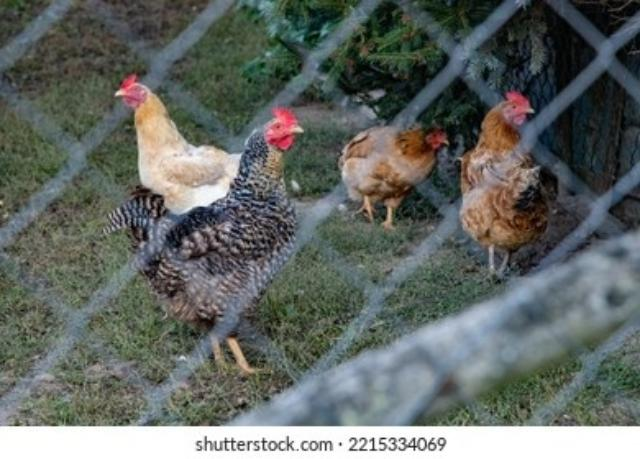Chicken: (102, 106, 303, 375), (459, 88, 558, 276), (113, 74, 244, 215), (340, 125, 452, 228)
